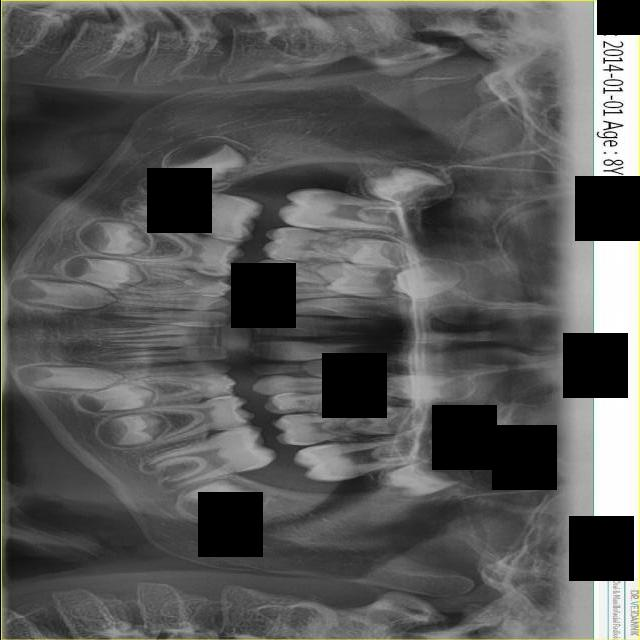Sterngold Implant: (187, 271, 226, 290), (197, 263, 228, 276), (222, 419, 246, 431), (279, 405, 304, 413), (212, 396, 234, 404), (214, 390, 232, 396)
